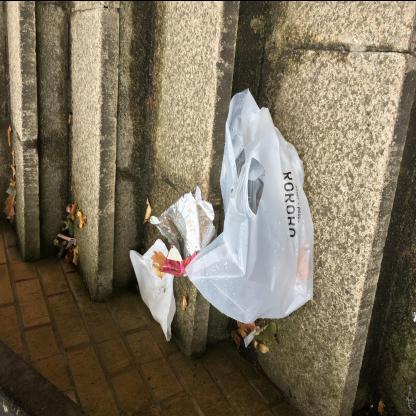kagit: (130, 238, 177, 342)
plastik: (186, 88, 317, 324), (150, 186, 218, 274)
